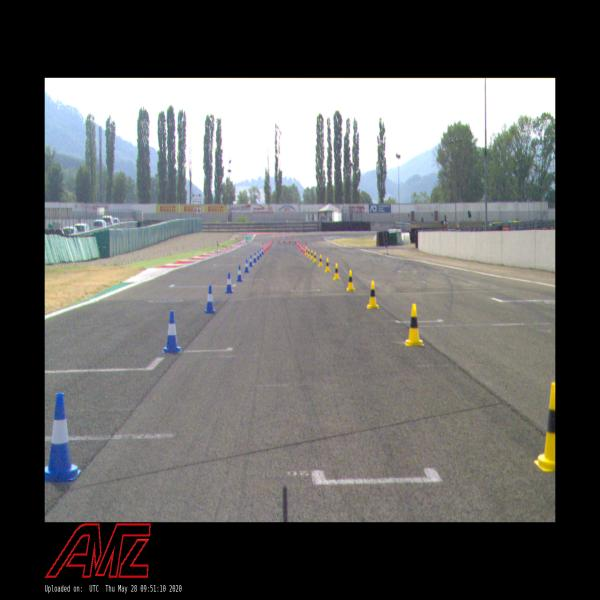blue_cone: (44, 392, 82, 482), (162, 310, 182, 354), (203, 286, 216, 314), (225, 272, 234, 294), (236, 265, 243, 282), (244, 258, 249, 273), (248, 255, 254, 267), (253, 252, 257, 262), (256, 251, 260, 260)
yellow_cone: (534, 383, 555, 474), (405, 303, 424, 347), (366, 280, 380, 309), (346, 270, 355, 292), (333, 263, 341, 281), (325, 257, 331, 273), (318, 254, 323, 268), (312, 252, 318, 262), (310, 249, 314, 260)
